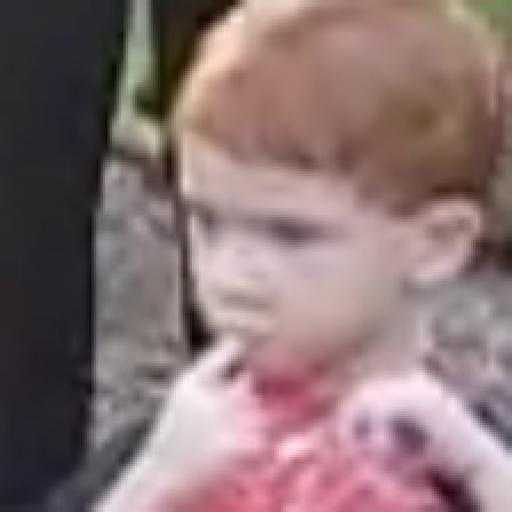Autism: (156, 0, 512, 452)
